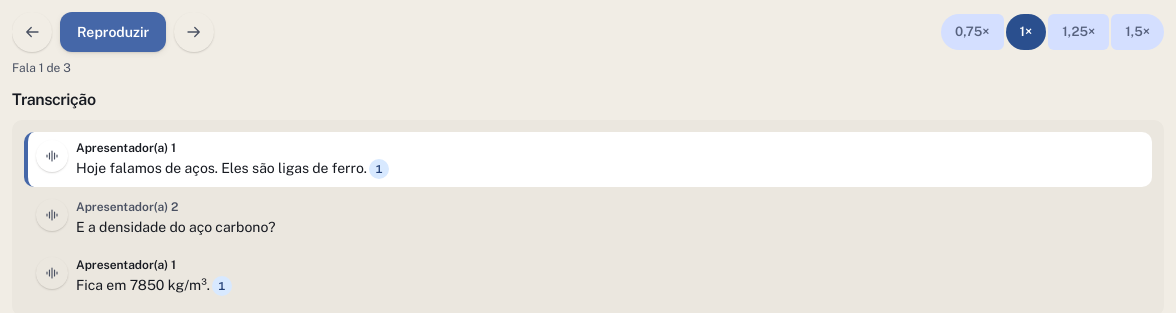
it: AudioView (D-98) › play speaks the first segment, and onend advances the line and the highlight
This screenshot has width=1176, height=313.
Step 1. Click the button "Reproduzir" → click(113, 32), box [60,12,166,52]
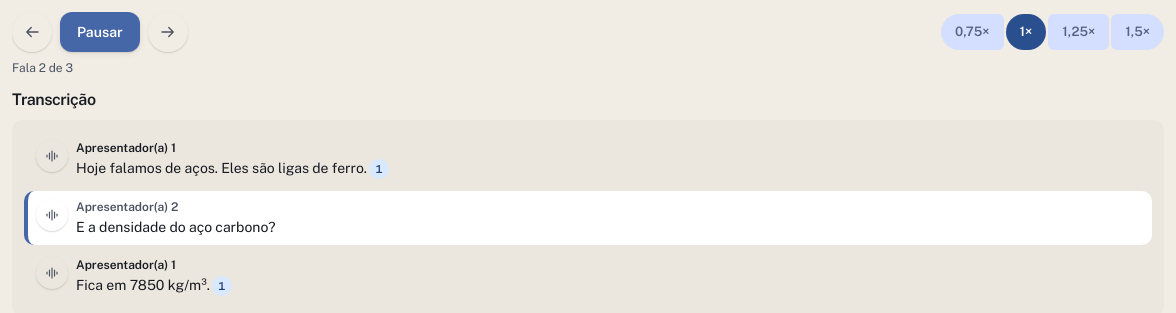
expect the text "E a densidade do aço carbono?" is shown: met, box [76,219,276,235]
expect the button "Pausar" is shown: met, box [60,12,140,52]
